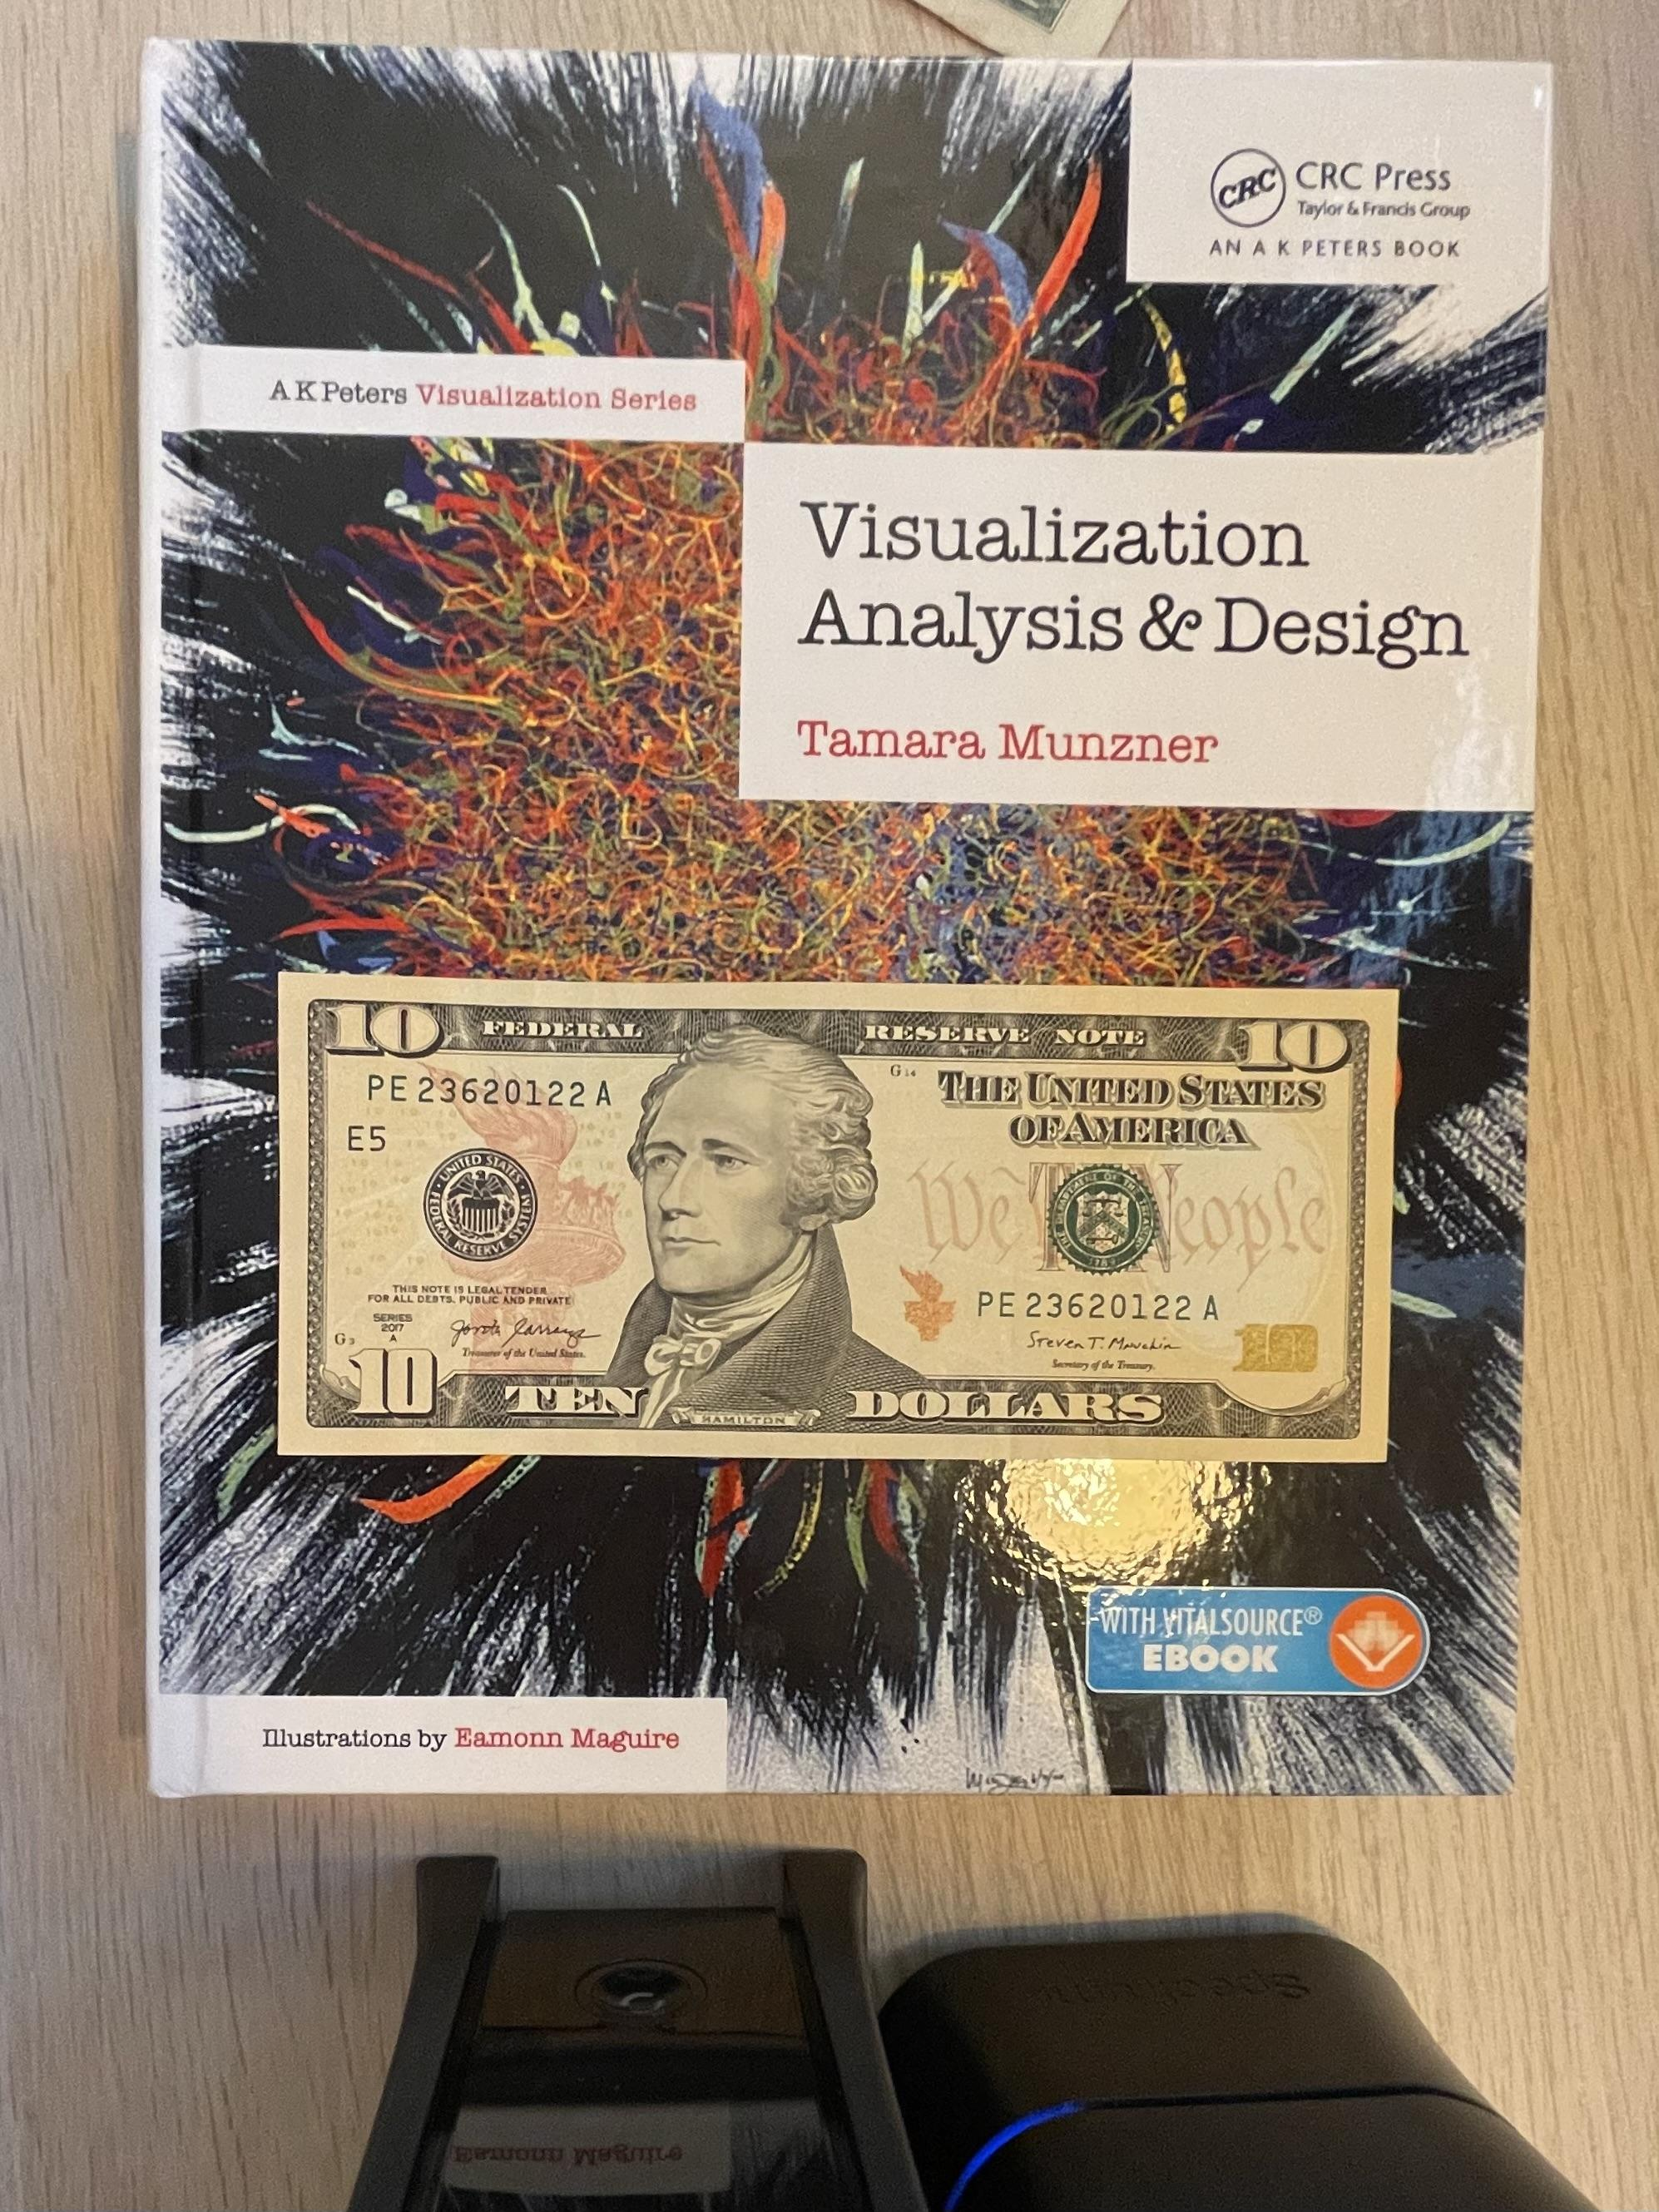TenBill: (274, 970, 1401, 1465)
